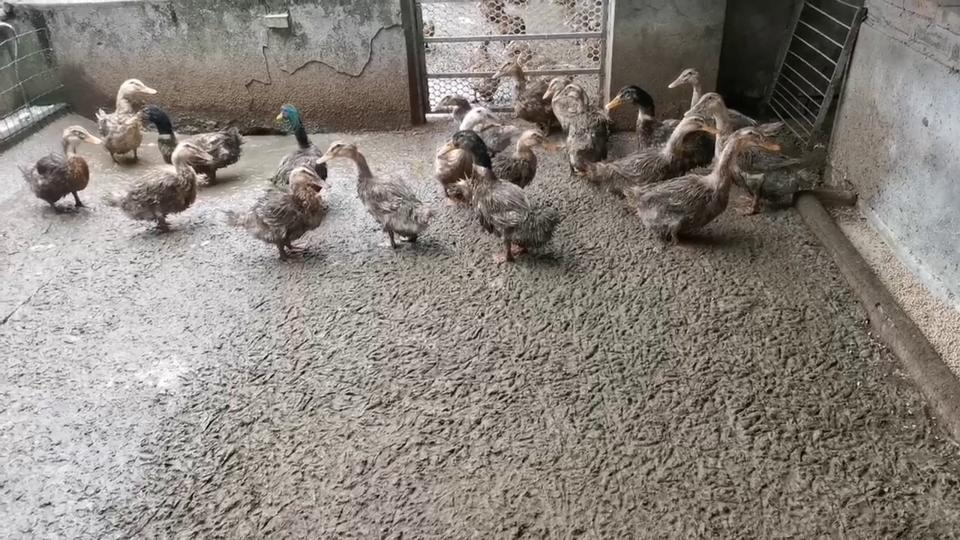duck: (693, 95, 854, 218), (438, 131, 571, 264), (649, 121, 781, 246), (328, 140, 436, 251), (607, 82, 719, 173), (132, 105, 247, 190), (123, 138, 213, 233), (624, 110, 715, 195), (247, 167, 331, 258), (27, 126, 104, 214), (557, 80, 611, 180), (276, 101, 331, 197), (443, 107, 523, 171), (101, 77, 155, 167), (486, 129, 556, 193), (490, 56, 548, 126), (501, 40, 580, 73), (667, 64, 715, 115), (472, 32, 503, 101), (536, 76, 569, 130), (481, 1, 528, 35), (425, 91, 473, 122), (575, 19, 602, 66), (424, 20, 437, 39)
